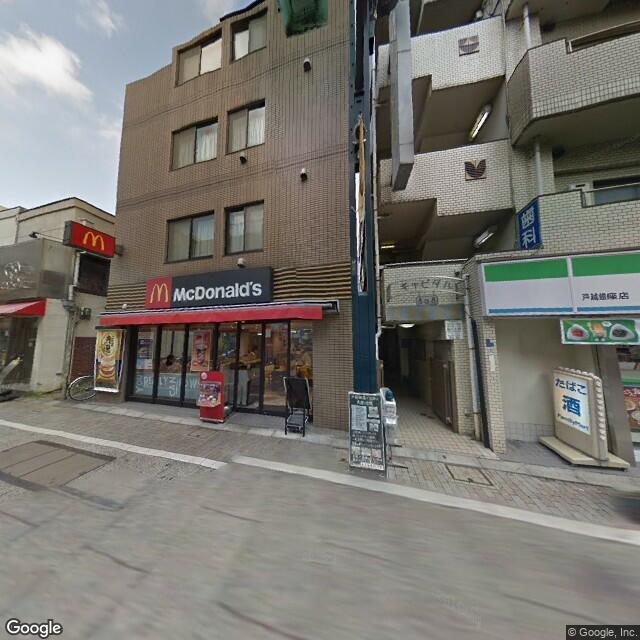family_mart: (484, 246, 638, 315)
